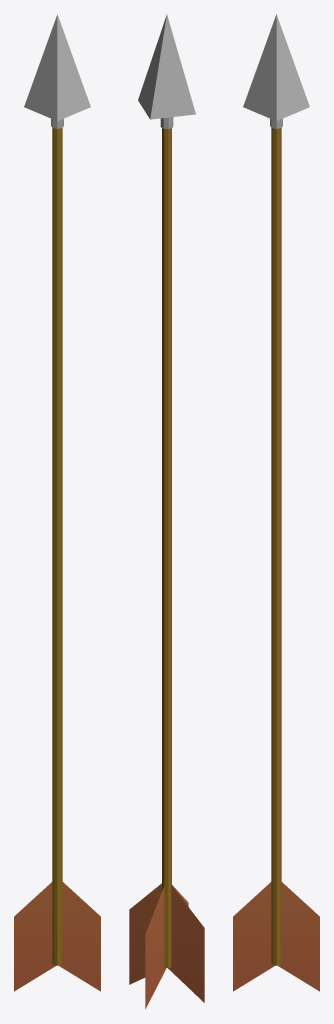
The model's file is arrow_2.glb.
The picture shows the model from 3 angles, left to right: view 1: azimuth 90°, elevation 25°; view 2: azimuth 150°, elevation 25°; view 3: azimuth 270°, elevation 25°; orthographic projection.
Parts seen in each view (by area): view 1: arrow_2; view 2: arrow_2; view 3: arrow_2.
Boxes of the visible parts, box(x1,y1,x2,y2) form: arrow_2: box(14, 14, 100, 991); arrow_2: box(129, 14, 204, 1009); arrow_2: box(233, 14, 319, 991).
Size of the model in its own units: 0.0482 by 0.5997 by 0.0482.
1 material, 1 textured.
